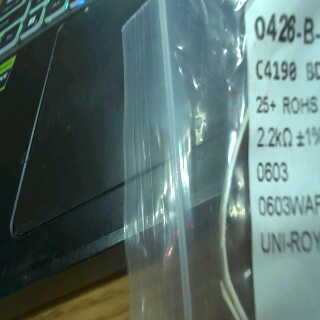2.2kR: (253, 123, 293, 155)
